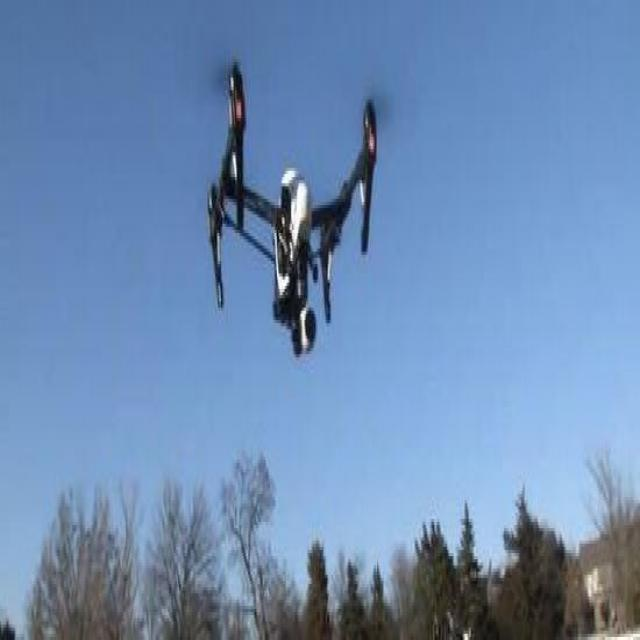UAV: (205, 66, 380, 360)
